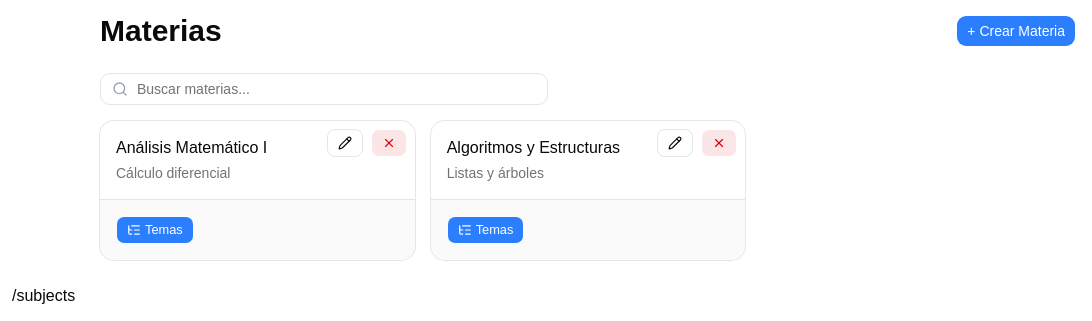
Test: Subjects Page › navega a los temas de la materia al hacer clic en "Temas"
Click the button "Temas" below "Cálculo diferencial".
click(155, 230)  # box [116,216,194,244]
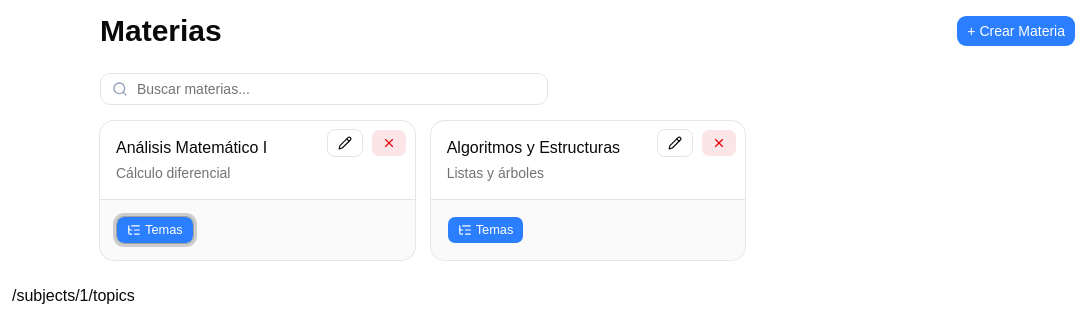
Now the text with test id "location" reads "/subjects/1/topics", box [12,287,135,304]
